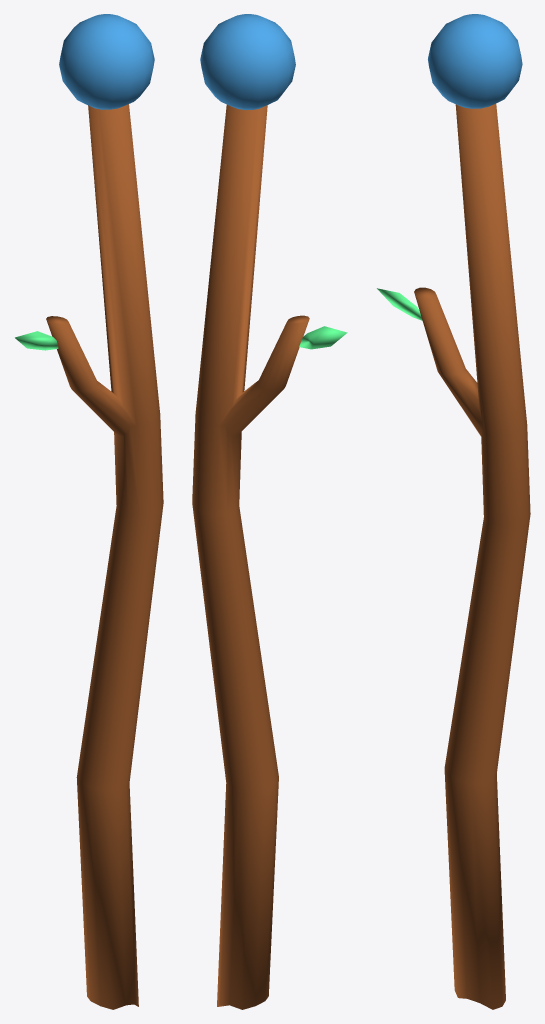
File: wand.fbx
3 views of the same model, side by side, from view 1: azimuth 30°, elevation 25°; view 2: azimuth 150°, elevation 25°; view 3: azimuth 330°, elevation 25° (orthographic).
Parts seen in each view (by area): view 1: wand; view 2: wand; view 3: wand.
Boxes of the visible parts, x1,y1,x2,y2 form: wand: (15,14,163,1009); wand: (192,14,347,1009); wand: (377,14,530,1009).
Size of the model in its own units: 12.97 by 82.26 by 7.26.
